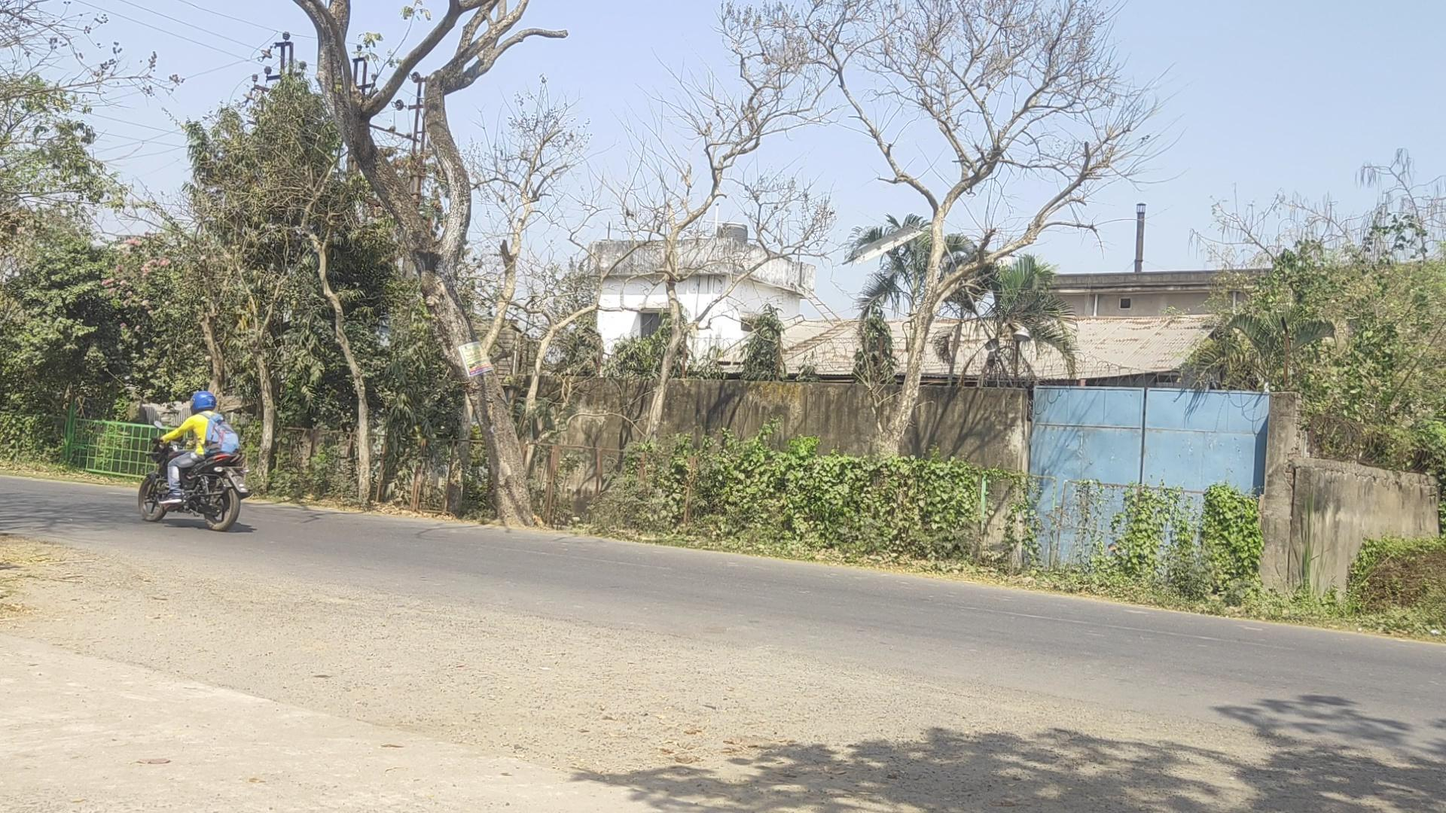bike: (138, 391, 252, 532)
